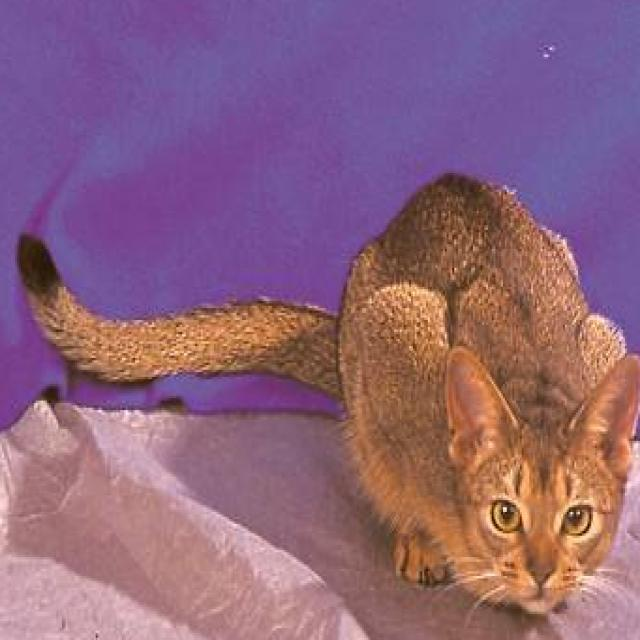Abyssinian: (13, 166, 640, 621)
